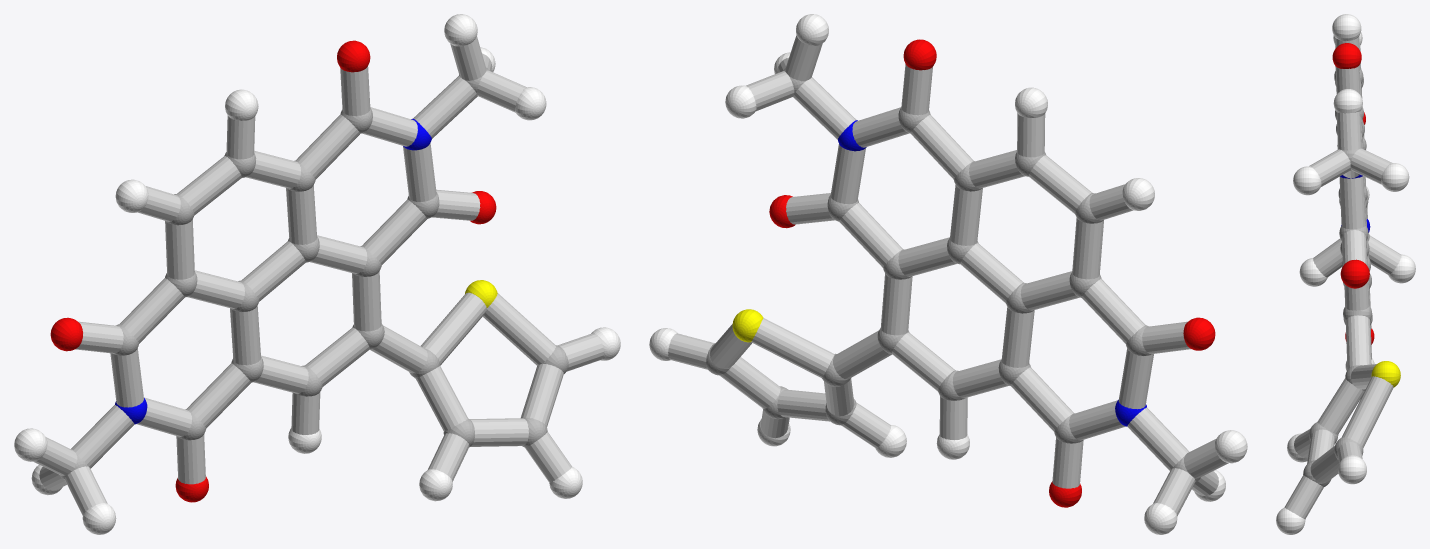
The model's file is Dimethyl_Naphthalene_Dicarboximide_Phi_20_Theta_150_Thiophene.glb.
3 renders of one model, left to right at view 1: azimuth 30°, elevation 25°; view 2: azimuth 150°, elevation 25°; view 3: azimuth 270°, elevation 25°, orthographic. The views are drawn at different scales.
Visible parts, largest first — view 1: grp14119, grp7241, grp1, grp12309, grp11585; view 2: grp14119, grp7241, grp1, grp12309, grp11585, grp13757; view 3: grp14119, grp7241, grp1, grp12309, grp13757.
Part boxes in pixels (x1=…): grp14119: x1=33, y1=36, x2=603, y2=515; grp7241: x1=14, y1=14, x2=620, y2=534; grp1: x1=60, y1=67, x2=568, y2=479; grp12309: x1=50, y1=40, x2=496, y2=502; grp11585: x1=115, y1=118, x2=431, y2=424; grp14119: x1=668, y1=35, x2=1228, y2=516; grp7241: x1=649, y1=14, x2=1247, y2=534; grp1: x1=706, y1=68, x2=1200, y2=482; grp12309: x1=769, y1=39, x2=1215, y2=507; grp11585: x1=838, y1=120, x2=1146, y2=426; grp13757: x1=732, y1=309, x2=763, y2=342; grp14119: x1=1284, y1=36, x2=1401, y2=519; grp7241: x1=1276, y1=14, x2=1415, y2=534; grp1: x1=1303, y1=69, x2=1372, y2=486; grp12309: x1=1332, y1=43, x2=1374, y2=344; grp13757: x1=1371, y1=361, x2=1400, y2=387.
Bounding box in the file's own units: 12.39 × 9.37 × 2.87.
